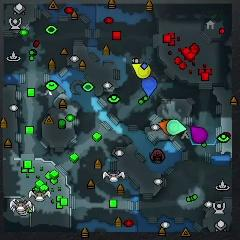p1: (141, 77, 157, 96)
p2: (166, 119, 186, 135)
p3: (190, 126, 207, 143)
p4: (131, 63, 151, 80)
p5: (157, 120, 169, 135)
